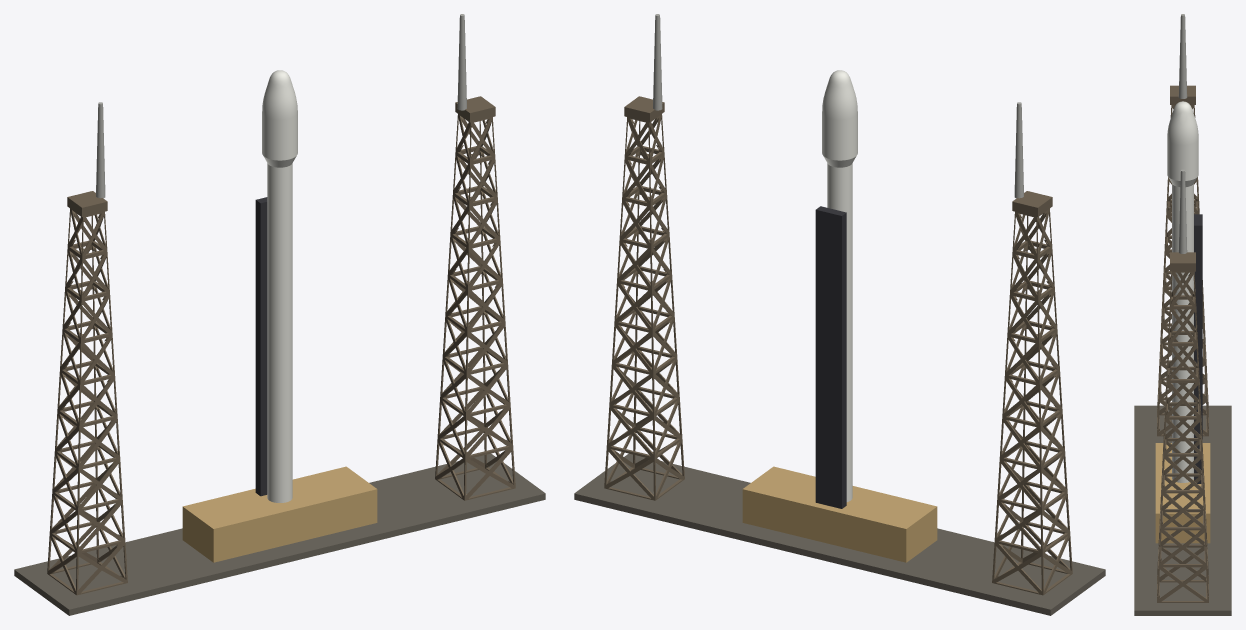
3 renders of one model, left to right at view 1: azimuth 30°, elevation 25°; view 2: azimuth 150°, elevation 25°; view 3: azimuth 270°, elevation 25°, orthographic. The views are drawn at different scales.
Parts seen in each view (by area): view 1: pad, lightning_tower_left, lightning_tower_right, falcon_9, launch_mount, strongback, lightning_mast_right, lightning_mast_left; view 2: pad, lightning_tower_left, lightning_tower_right, launch_mount, strongback, falcon_9, lightning_mast_right, lightning_mast_left; view 3: pad, lightning_tower_right, falcon_9, lightning_tower_left, launch_mount, strongback, lightning_mast_left, lightning_mast_right.
Boxes of the visible parts, <box> form: pad: <box>14,453,545,615</box>; lightning_tower_left: <box>47,191,127,595</box>; lightning_tower_right: <box>435,96,515,500</box>; falcon_9: <box>262,70,297,502</box>; launch_mount: <box>182,466,377,562</box>; strongback: <box>255,197,267,496</box>; lightning_mast_right: <box>457,14,466,110</box>; lightning_mast_left: <box>96,102,105,198</box>; pad: <box>574,453,1105,615</box>; lightning_tower_left: <box>992,191,1072,595</box>; lightning_tower_right: <box>604,96,684,500</box>; launch_mount: <box>742,466,937,562</box>; strongback: <box>815,206,846,508</box>; falcon_9: <box>822,70,857,501</box>; lightning_mast_right: <box>653,14,662,110</box>; lightning_mast_left: <box>1014,102,1023,198</box>; pad: <box>1134,405,1231,615</box>; lightning_tower_right: <box>1157,252,1208,602</box>; falcon_9: <box>1167,101,1198,482</box>; lightning_tower_left: <box>1157,85,1208,436</box>; launch_mount: <box>1155,443,1210,543</box>; strongback: <box>1194,214,1202,483</box>; lightning_mast_left: <box>1178,14,1187,98</box>; lightning_mast_right: <box>1178,169,1187,253</box>.
Size of the model in its own units: 80 by 76.7 by 16.
